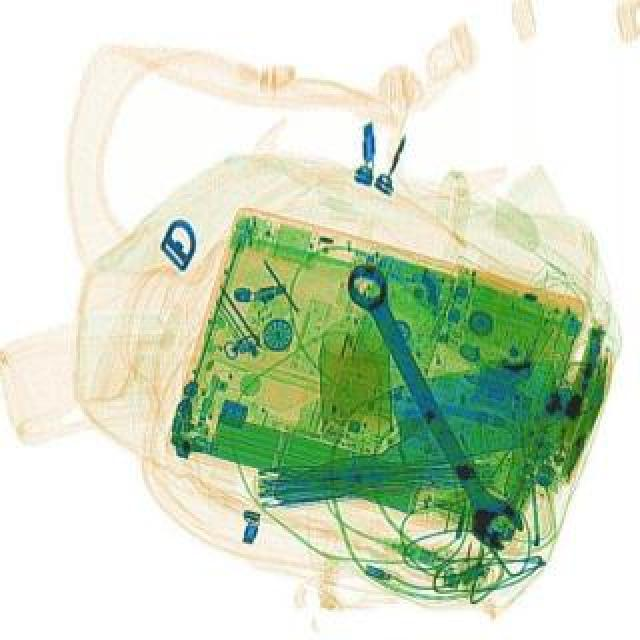knife: (252, 348, 576, 510)
scissors: (334, 256, 526, 554)
